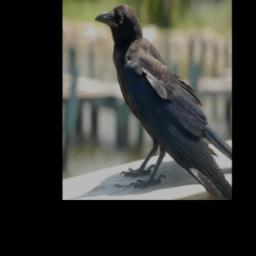Crow: (94, 5, 231, 200)
